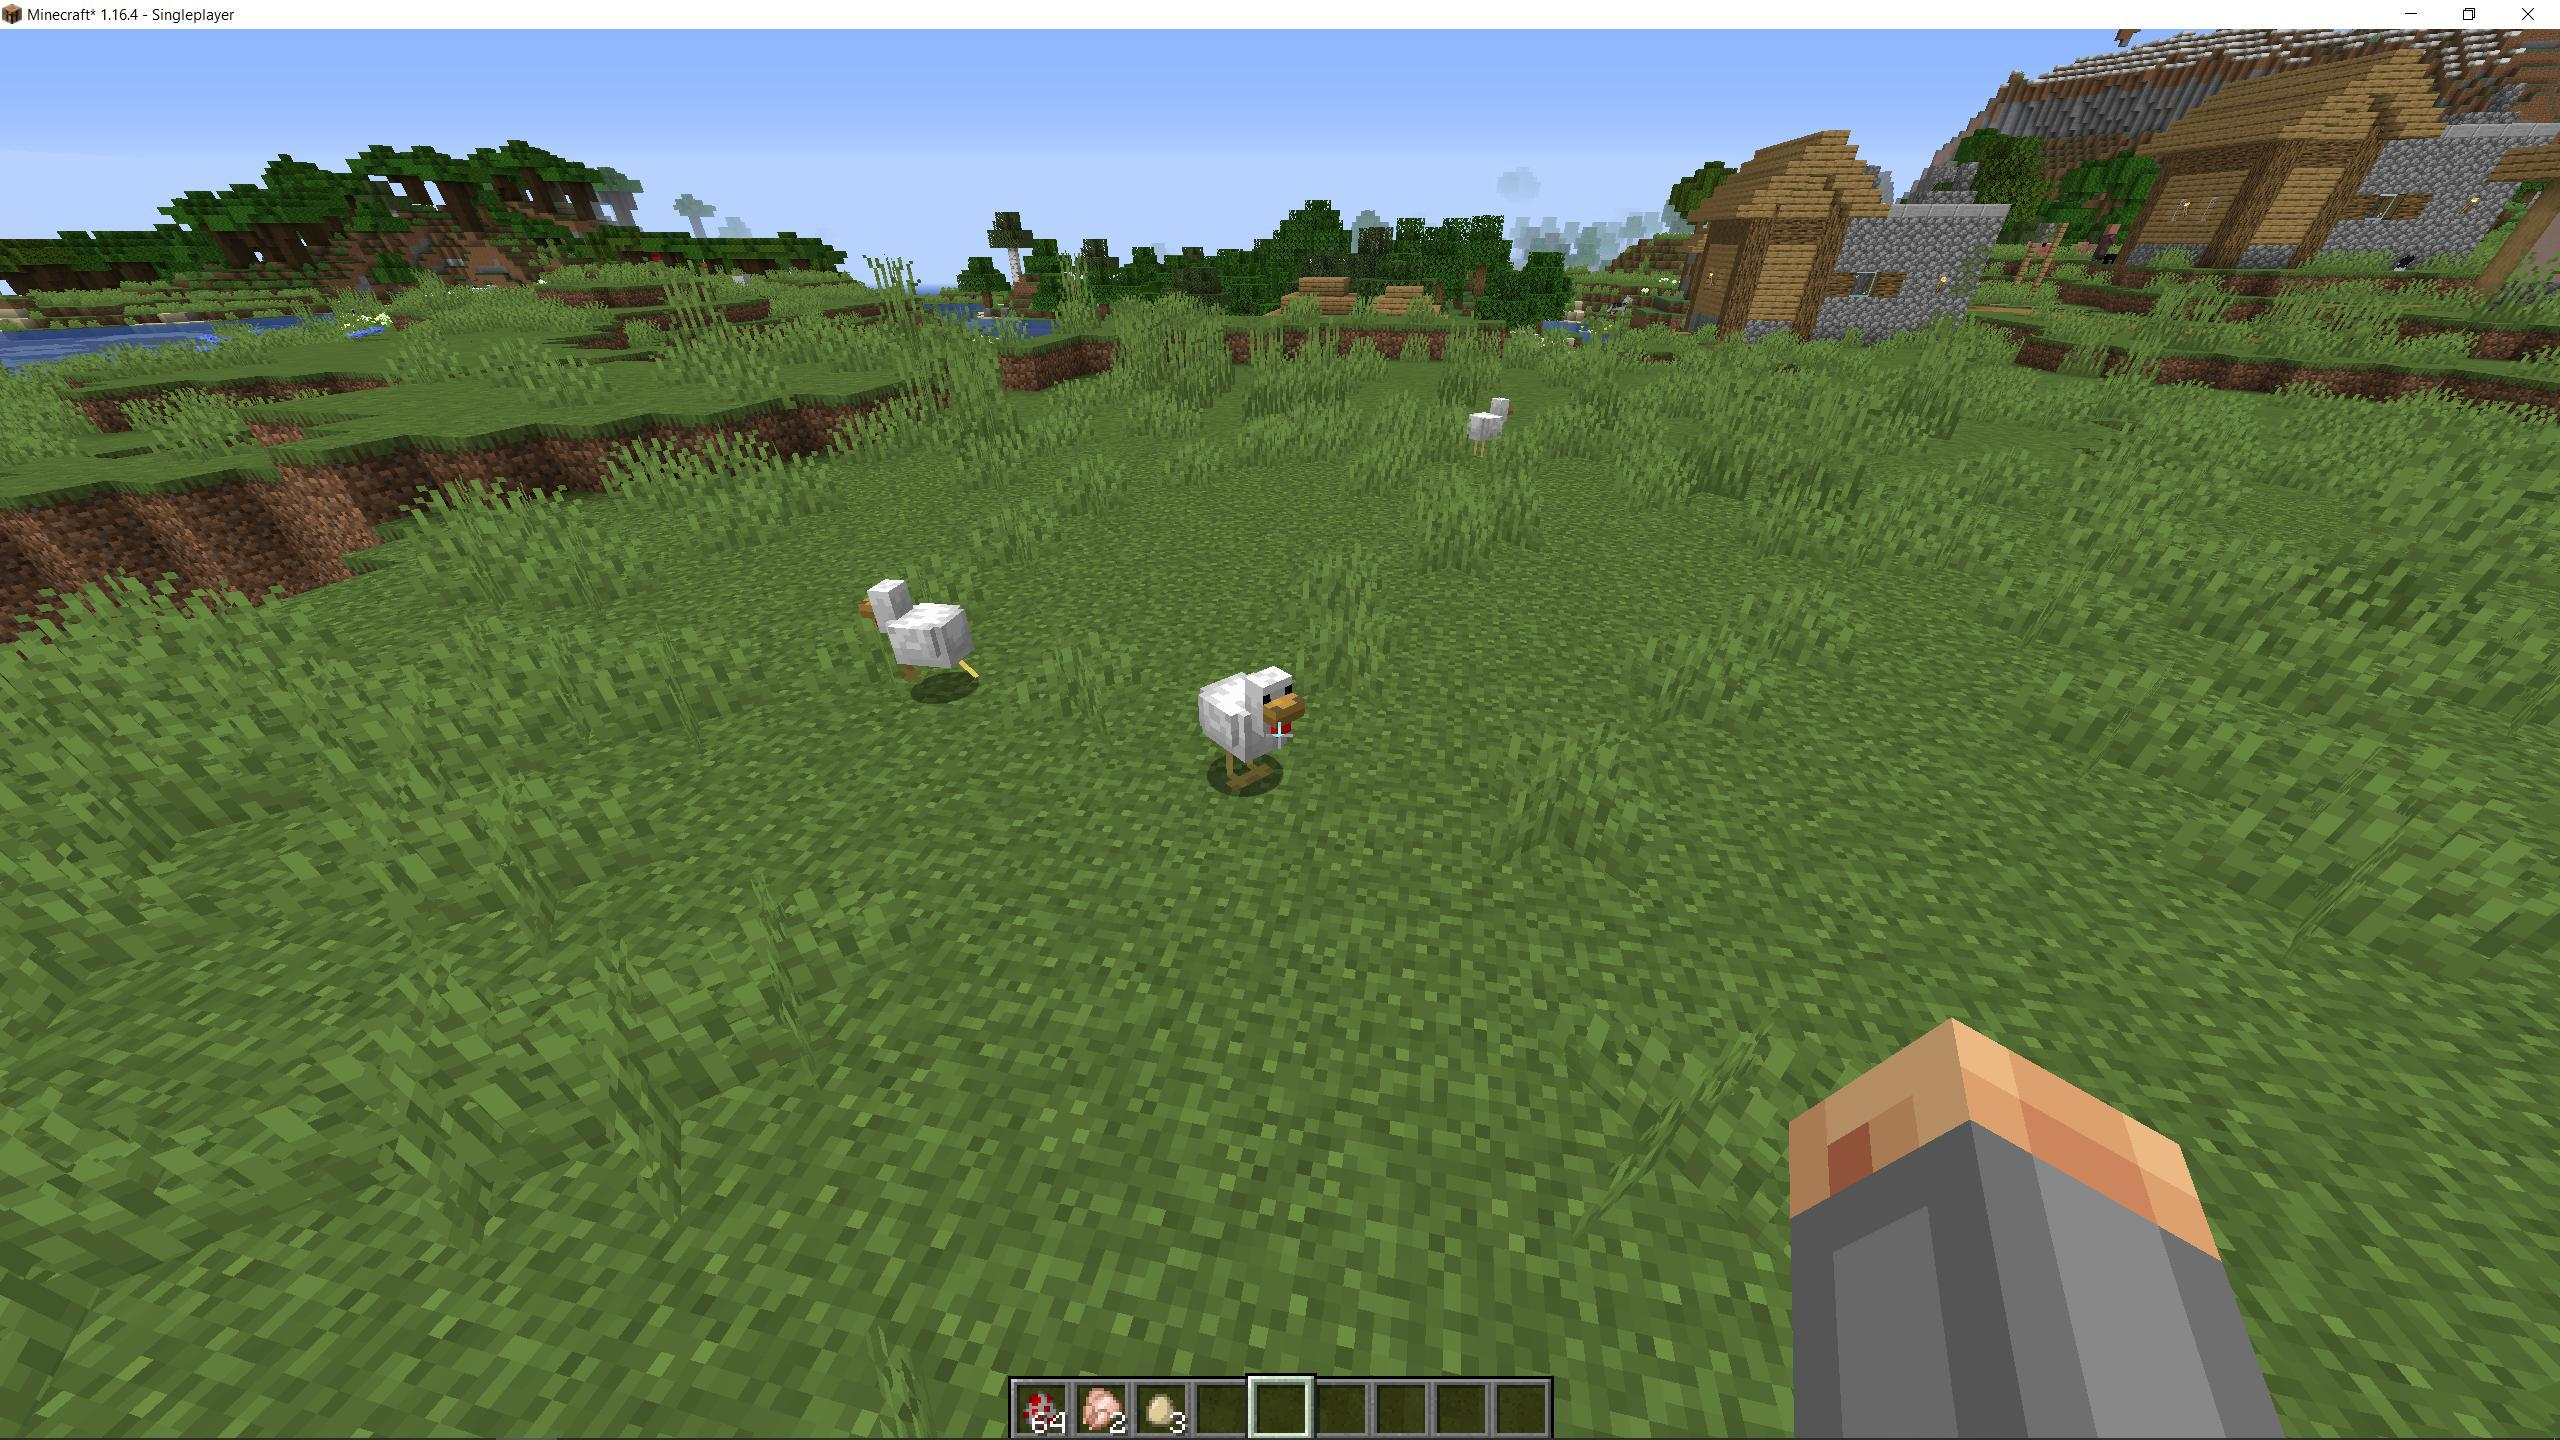chicken: (847, 571, 986, 696), (1189, 659, 1308, 796), (1452, 390, 1523, 471)
